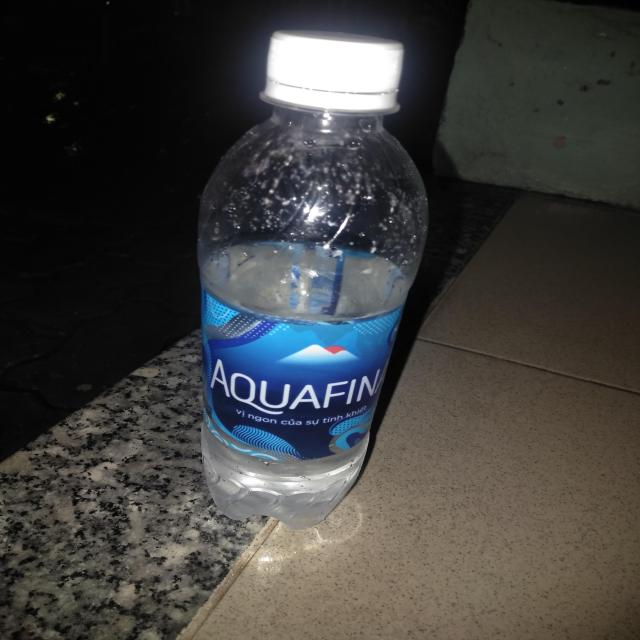litter: (182, 14, 460, 543)
